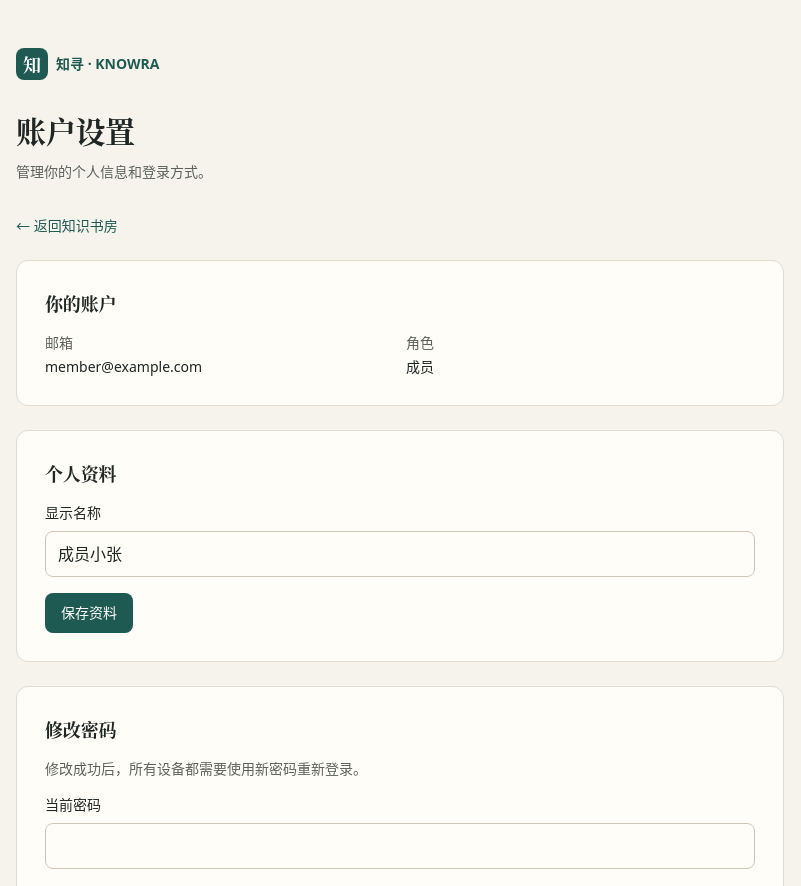
AccountView › 当前密码错误时保持登录并提示
Type "Wrong-Pass-2026" into the password field with test id "current-password". click: (400,846)
box: [45, 823, 755, 869]
(page scrolled)
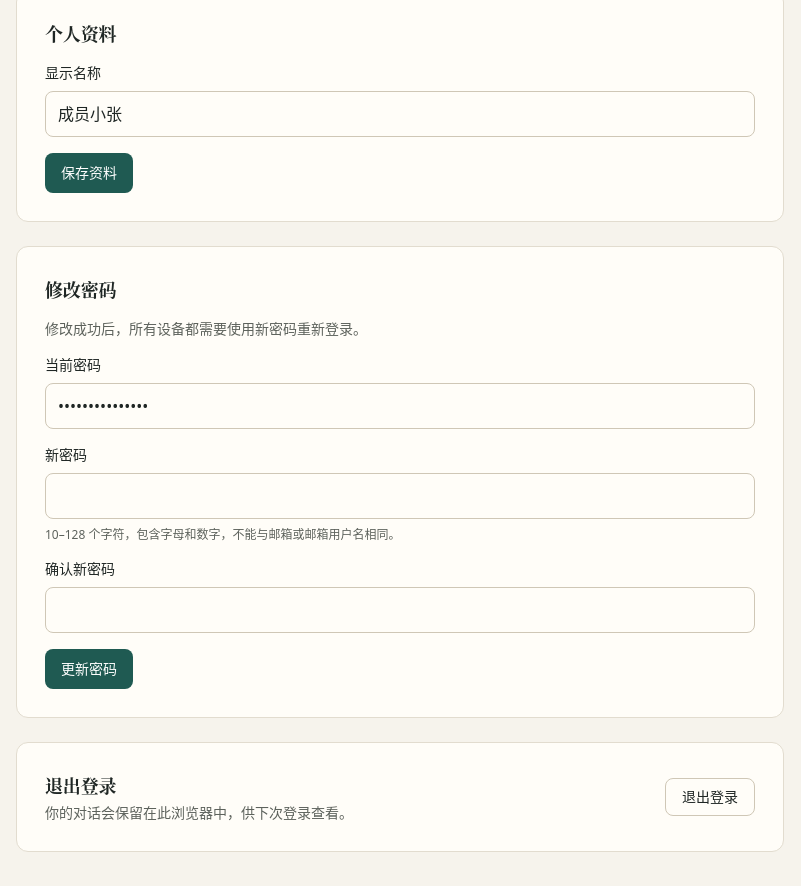
Type "Brand-New-Pass-2027" into the password field with test id "new-password". click: (400,496)
box: [45, 473, 755, 519]
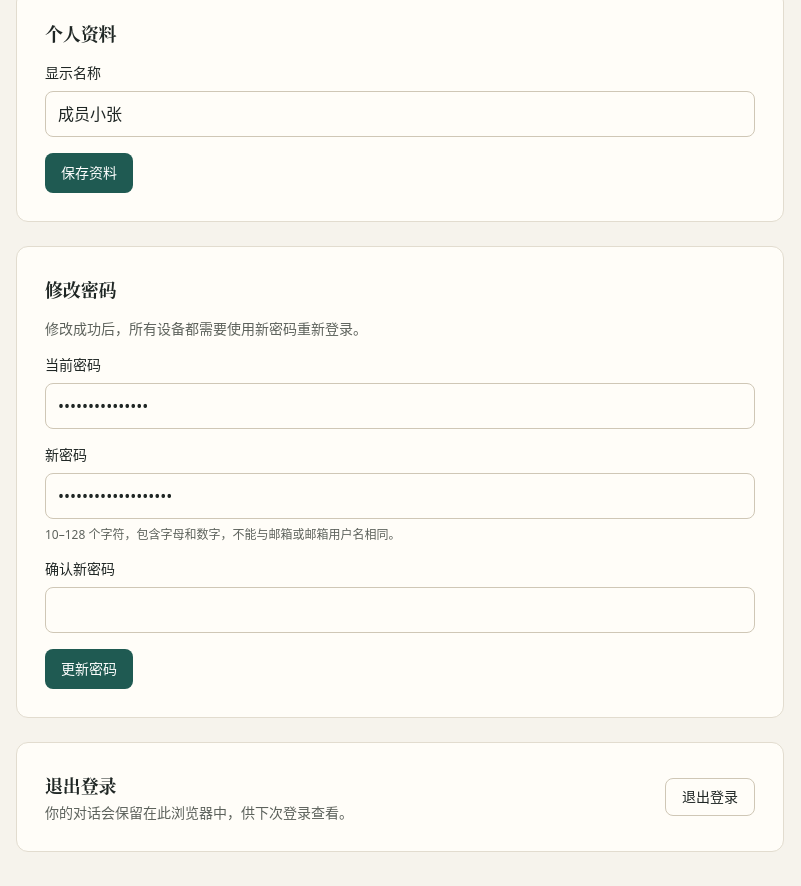
Type "Brand-New-Pass-2027" into the password field with test id "confirm-password". click: (400,610)
box: [45, 587, 755, 633]
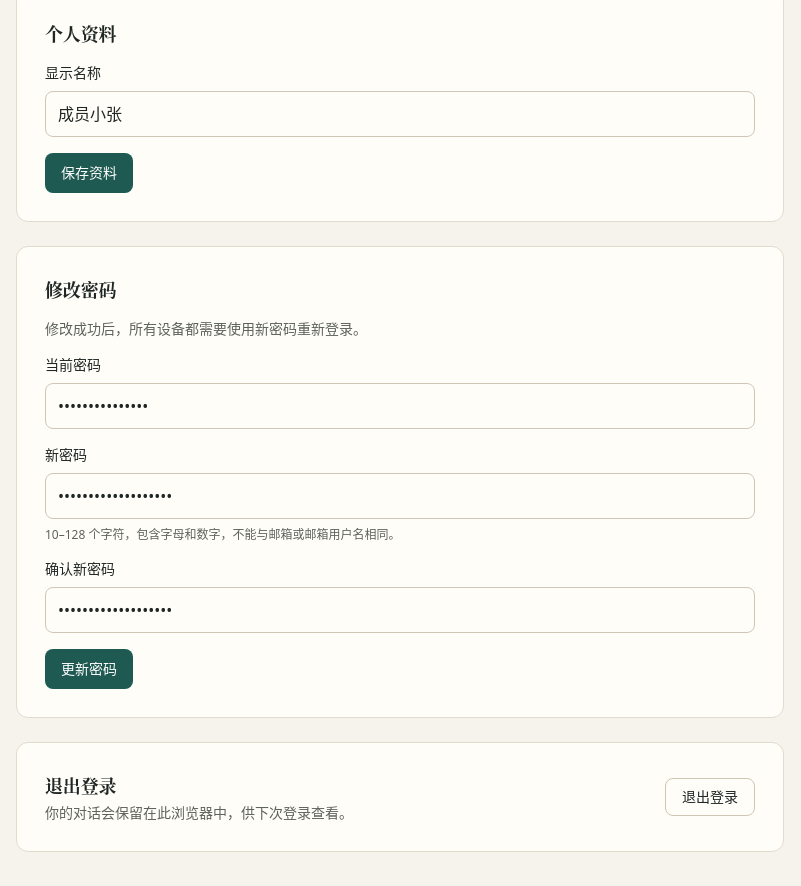
Submit the form with test id "password-form", box [16, 246, 784, 718]
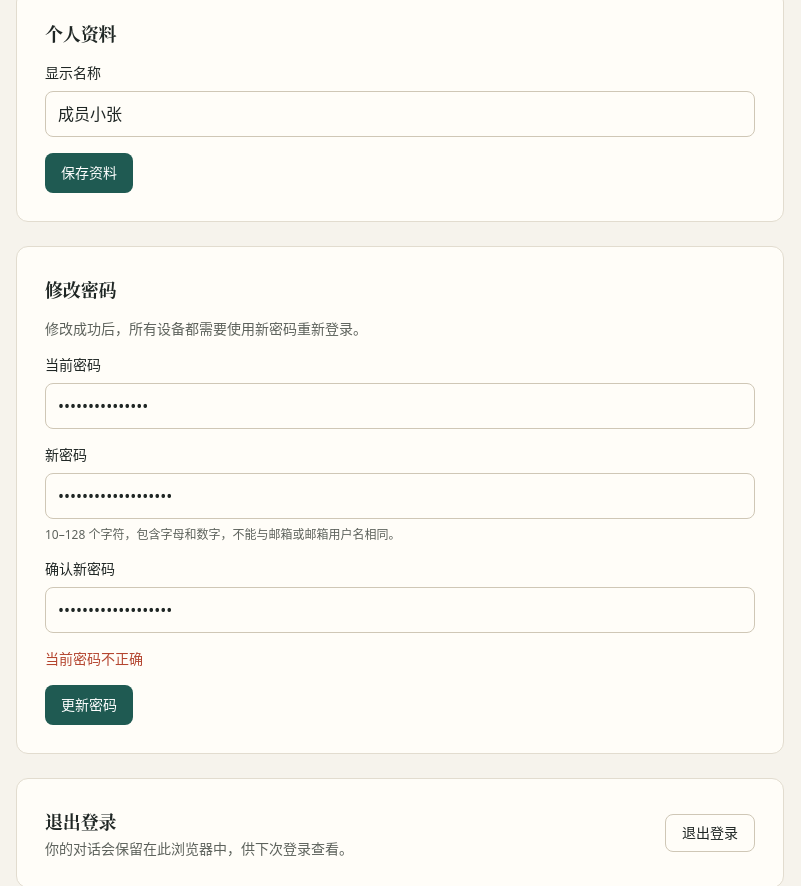
Now the message "当前密码不正确" is shown, box [45, 649, 143, 668]
